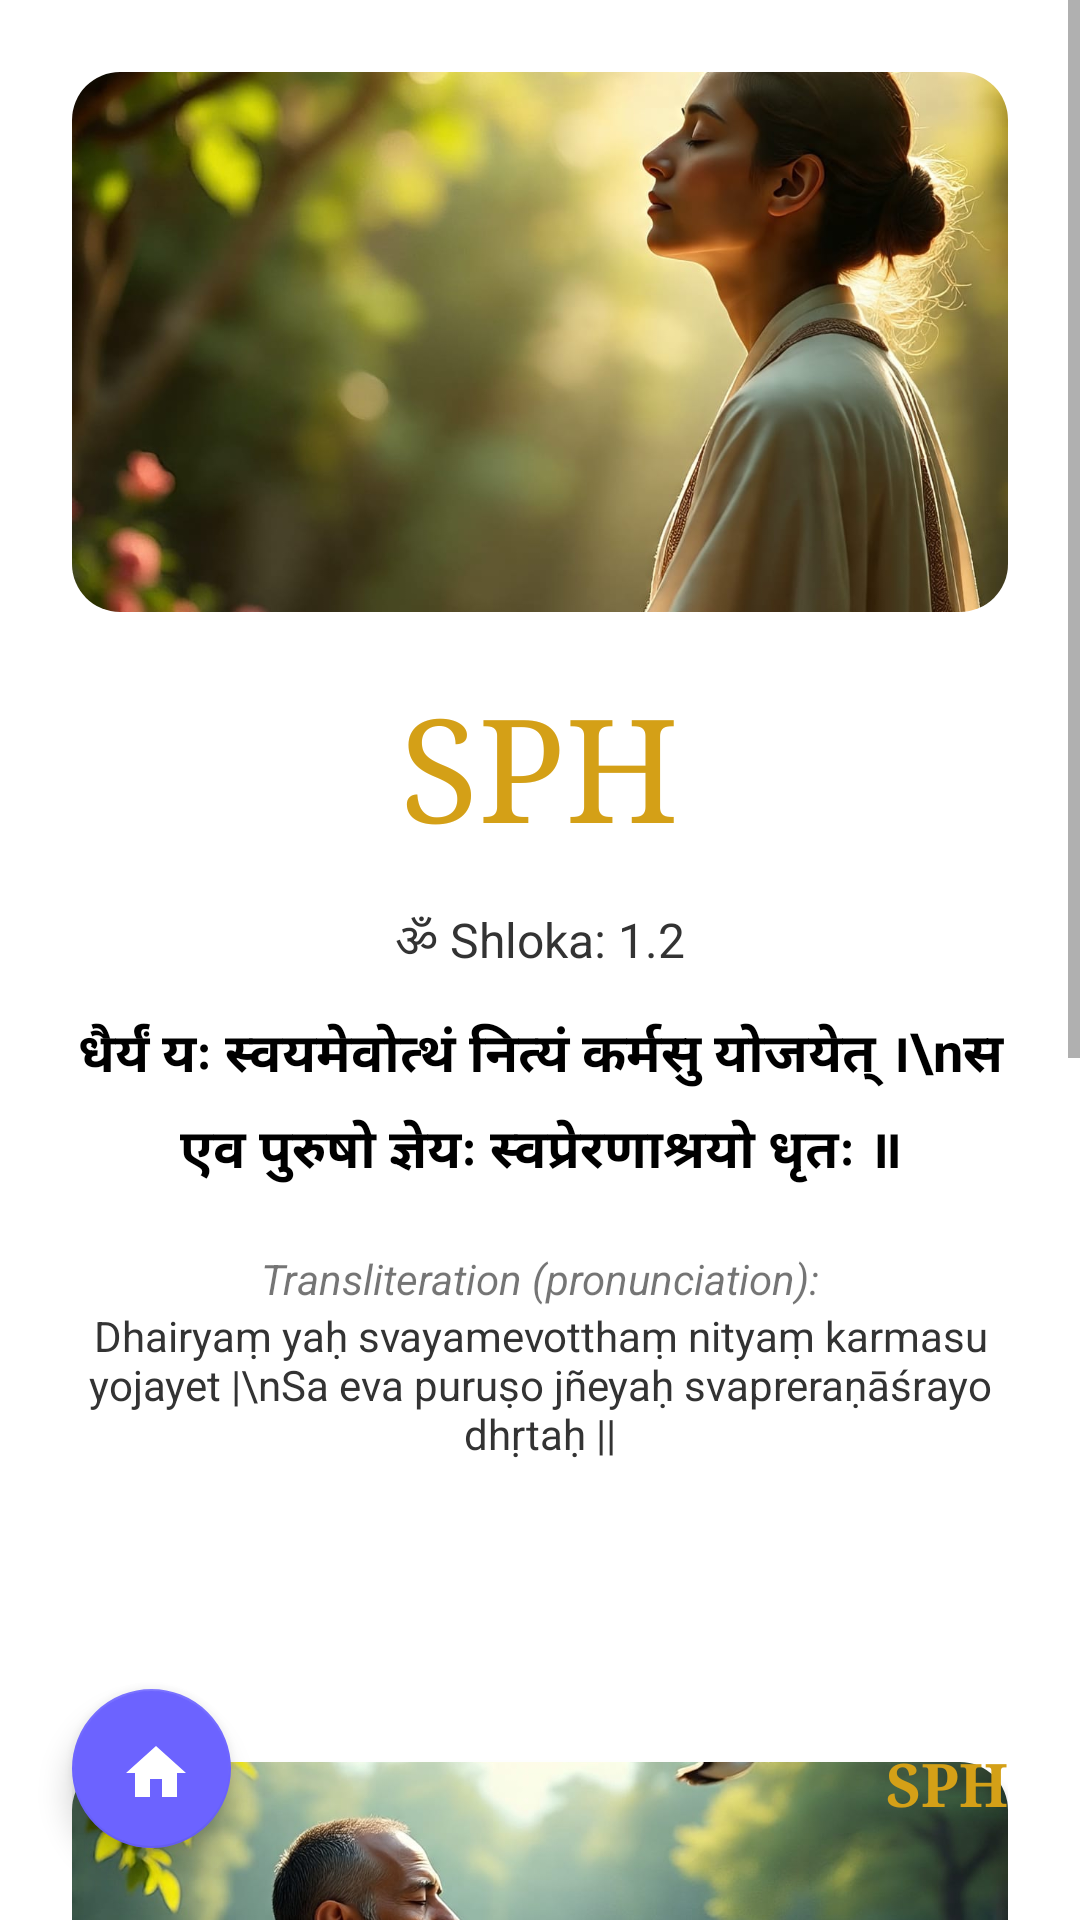

Icons on this 1080x1920 Android screen, each with its box as rect(x1, y1, x2, y2):
home: rect(72, 1689, 231, 1848)
